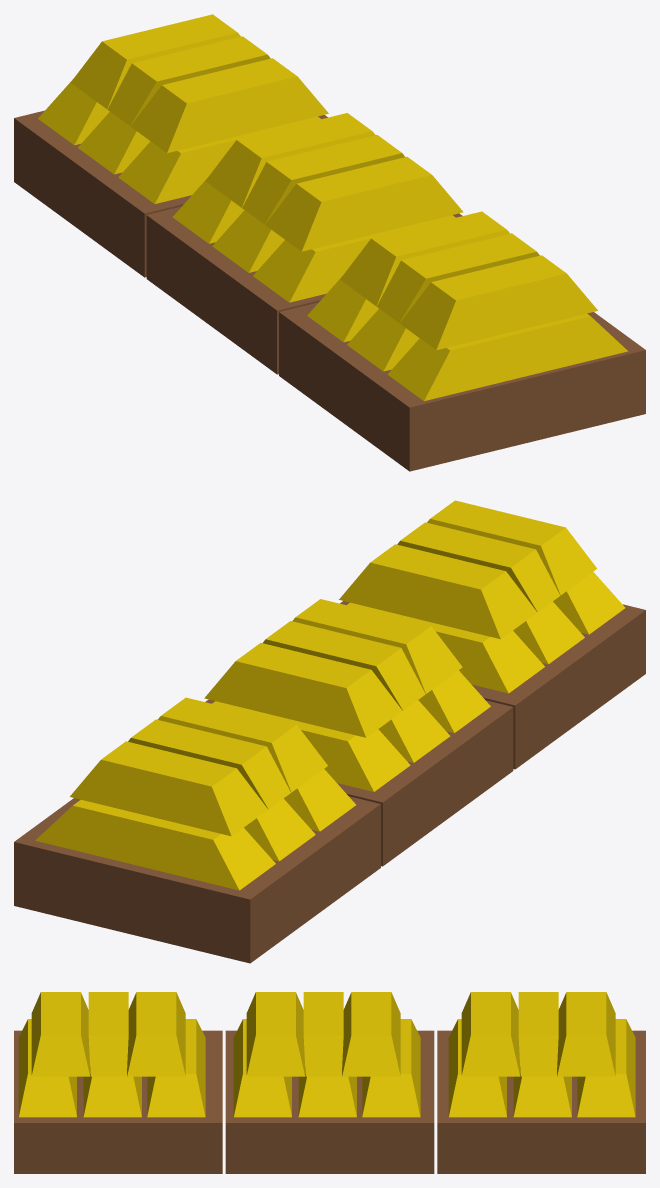
File: AltinDuz.fbx
3 views of the same model, one above another, from view 1: azimuth 30°, elevation 25°; view 2: azimuth 150°, elevation 25°; view 3: azimuth 270°, elevation 25° (orthographic). The views are drawn at different scales.
Parts seen in each view (by area): view 1: AltinDuz.001, AltinDuz, AltinDuz.002; view 2: AltinDuz, AltinDuz.001, AltinDuz.002; view 3: AltinDuz.002, AltinDuz, AltinDuz.001.
Part boxes in pixels (bbox=[...]): AltinDuz.001: bbox=[279, 211, 645, 471]; AltinDuz: bbox=[14, 14, 328, 277]; AltinDuz.002: bbox=[146, 113, 463, 374]; AltinDuz: bbox=[14, 697, 380, 963]; AltinDuz.001: bbox=[339, 500, 645, 769]; AltinDuz.002: bbox=[204, 599, 513, 866]; AltinDuz.002: bbox=[225, 992, 434, 1173]; AltinDuz: bbox=[437, 992, 645, 1173]; AltinDuz.001: bbox=[14, 992, 222, 1173].
Size of the model in its own units: 0.6467 by 0.3748 by 1.88.
